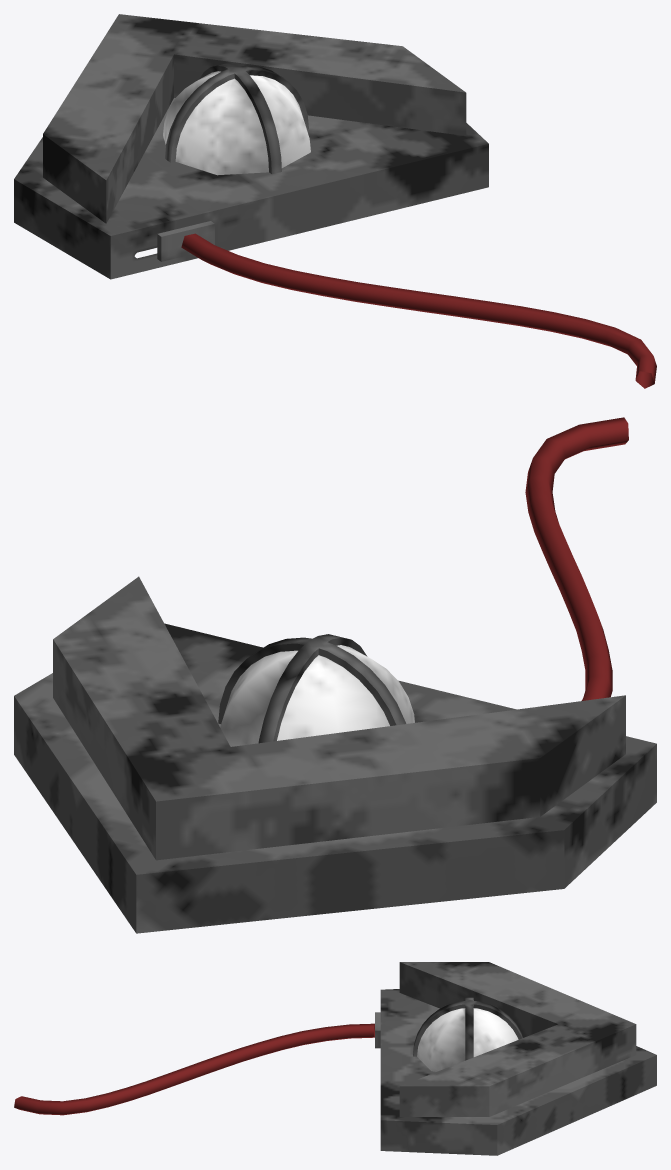
File: DirectionalArrow.fbx
3 views of the same model, one above another, from view 1: azimuth 30°, elevation 25°; view 2: azimuth 150°, elevation 25°; view 3: azimuth 270°, elevation 25° (orthographic). The views are drawn at different scales.
Visible parts, largest first — view 1: Directional_Arrow; view 2: Directional_Arrow; view 3: Directional_Arrow.
Part boxes in pixels (x1,y1,x2,y2): Directional_Arrow: [14, 14, 656, 388]; Directional_Arrow: [14, 417, 656, 933]; Directional_Arrow: [14, 962, 656, 1155].
Bounding box in the file's own units: 48.97 × 13.5 × 94.84.
